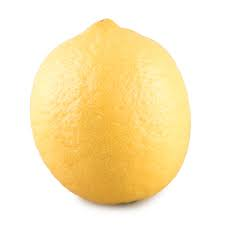lemon: (28, 6, 210, 208)
